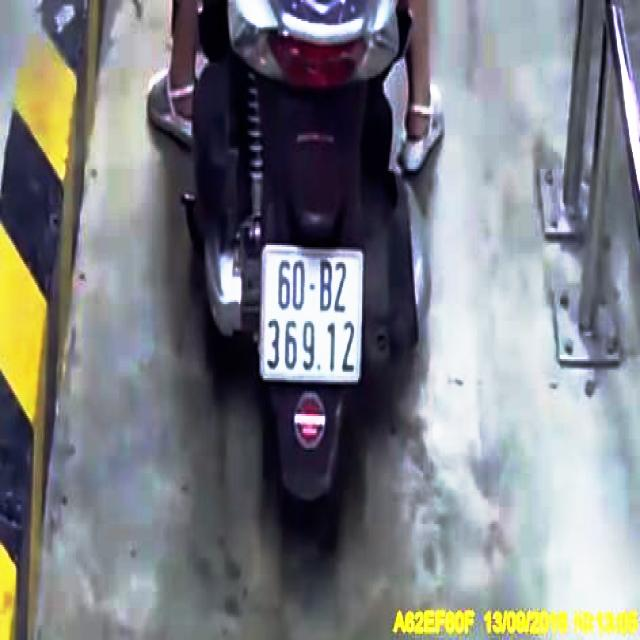license_plate: (261, 248, 363, 384)
